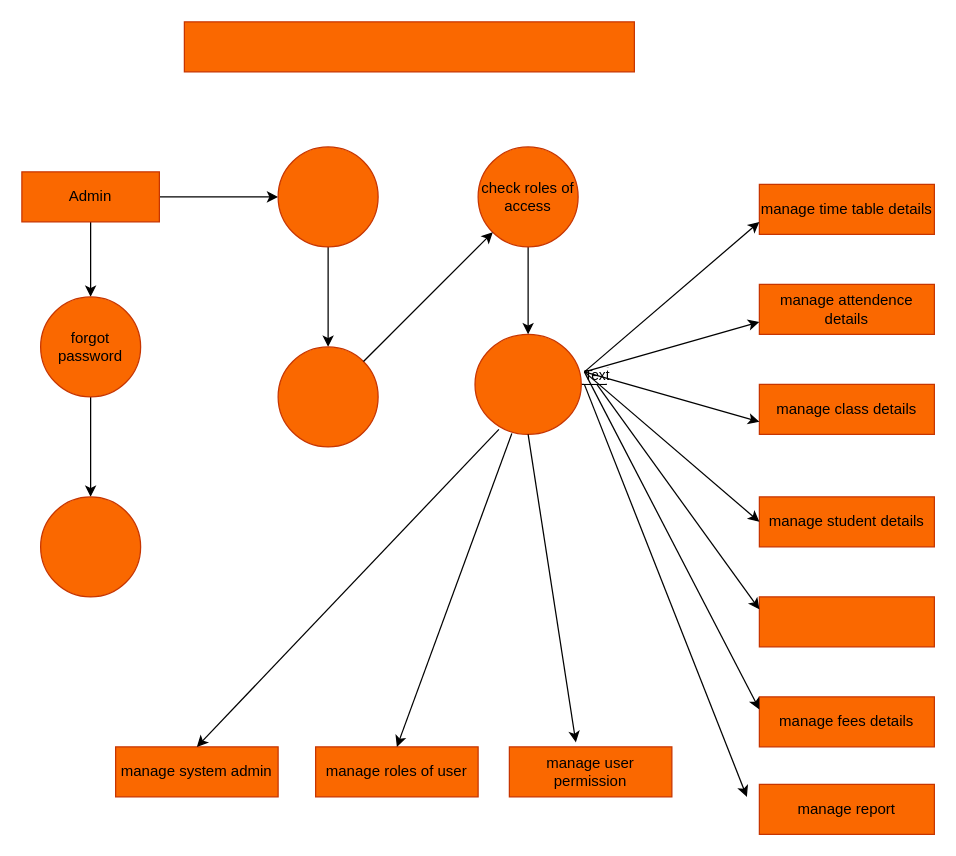
Image size: 956x856. Some labels were removed from this diagram. The shapes that lost their labels are listed below. From the top down, each one's centre as x and y in pixels, then its label:
(x=408, y=46): student information system
(x=327, y=196): login to system
(x=327, y=396): check credentials
(x=527, y=383): manage modules
(x=90, y=546): send email to user
(x=846, y=621): manage teacher profile
